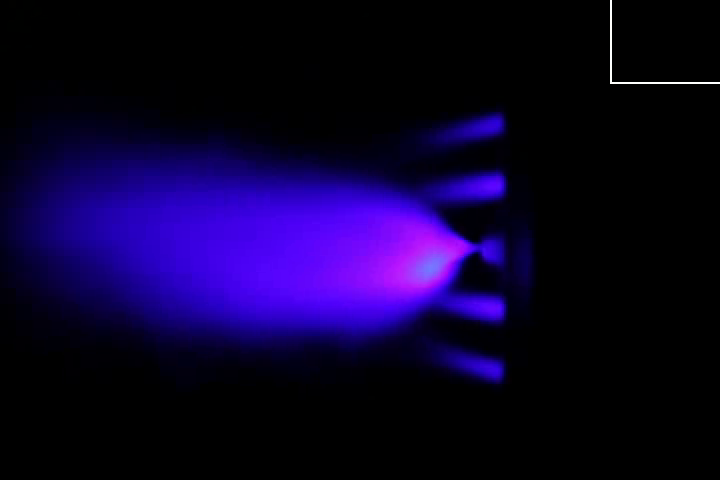burner cap: (477, 237, 514, 272)
pilot flame: (410, 340, 504, 384), (419, 108, 508, 151), (434, 294, 510, 326), (416, 172, 507, 198)
stable: (361, 213, 479, 297)
